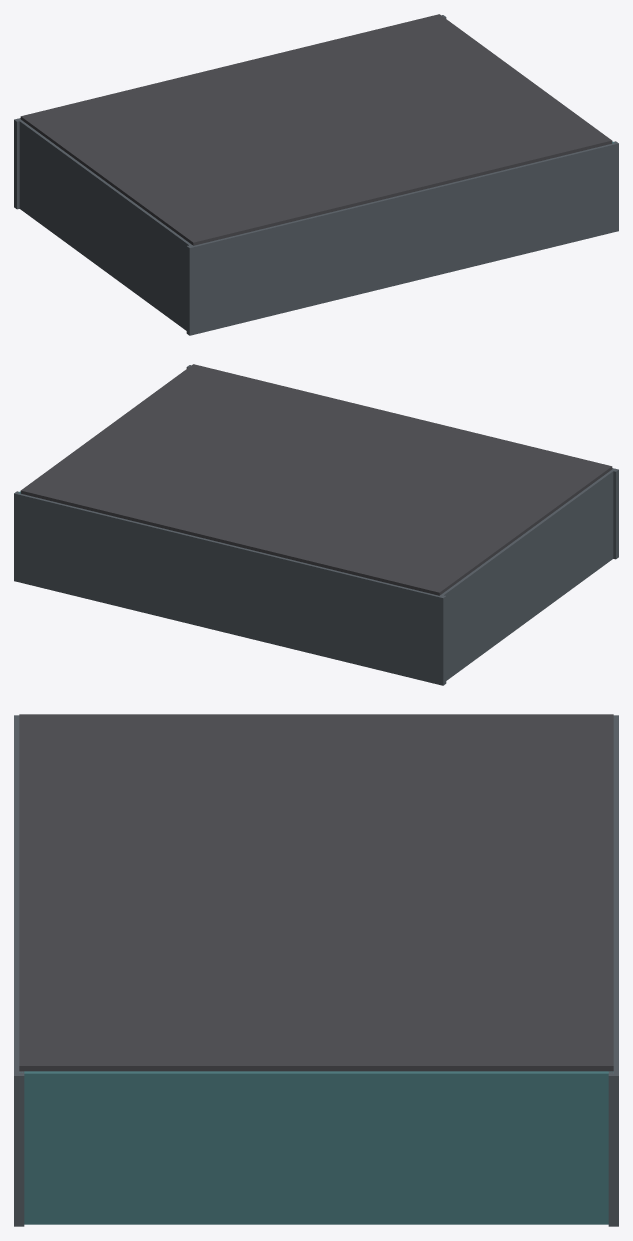
File: custom.glb
3 renders of one model, top to bottom at view 1: azimuth 30°, elevation 25°; view 2: azimuth 150°, elevation 25°; view 3: azimuth 270°, elevation 25°, orthographic. The views are drawn at different scales.
Parts seen in each view (by area): view 1: Ceiling, Wall_N, Wall_W, Wall_S; view 2: Ceiling, Wall_S, Wall_W, Wall_N; view 3: Ceiling, Wall_E, Wall_N, Wall_S.
Boxes of the visible parts, <box> form: Ceiling: <box>20,14,612,245</box>; Wall_N: <box>186,141,618,335</box>; Wall_W: <box>18,119,191,330</box>; Wall_S: <box>14,15,446,209</box>; Ceiling: <box>20,364,612,595</box>; Wall_S: <box>14,491,446,685</box>; Wall_W: <box>440,469,614,680</box>; Wall_N: <box>186,365,618,559</box>; Ceiling: <box>19,714,613,1071</box>; Wall_E: <box>19,1071,613,1224</box>; Wall_N: <box>14,715,24,1226</box>; Wall_S: <box>608,715,618,1226</box>.
Bounding box in the file's own units: 28.7 × 5.8 × 20.35.
